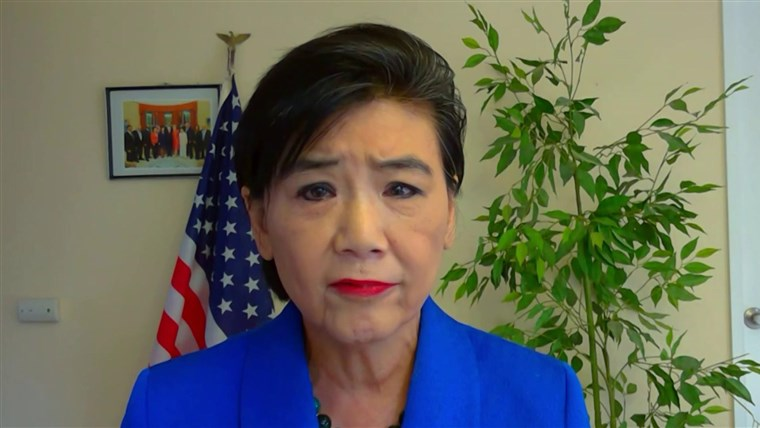bare: (258, 204, 440, 338)
